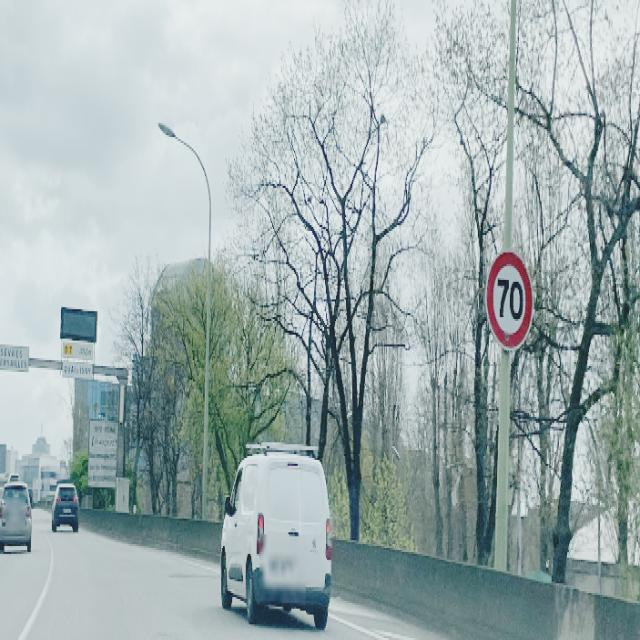speed_70: (485, 251, 534, 349)
